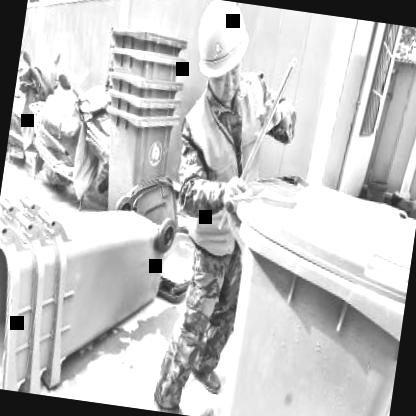helmet: (180, 0, 255, 109)
